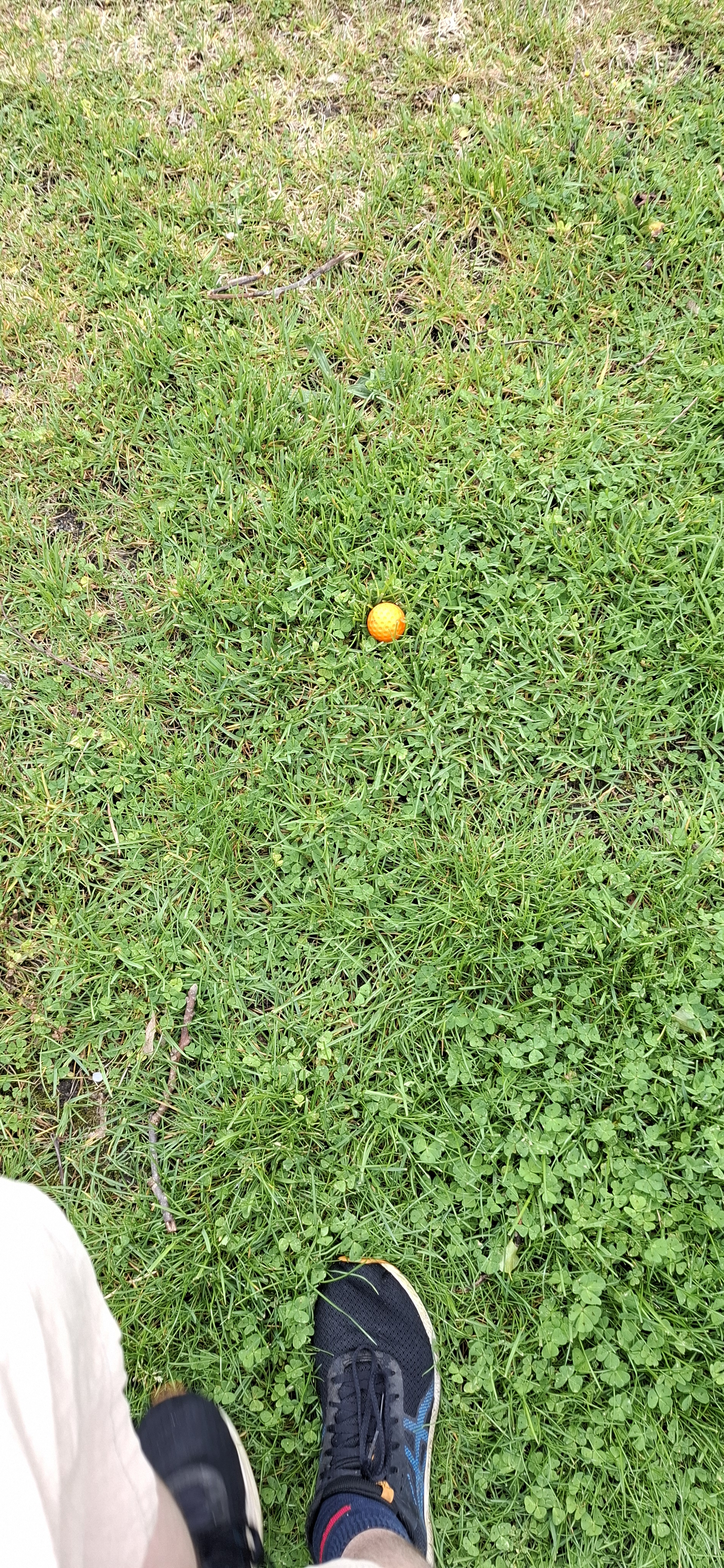ball: (278, 688, 297, 774)
